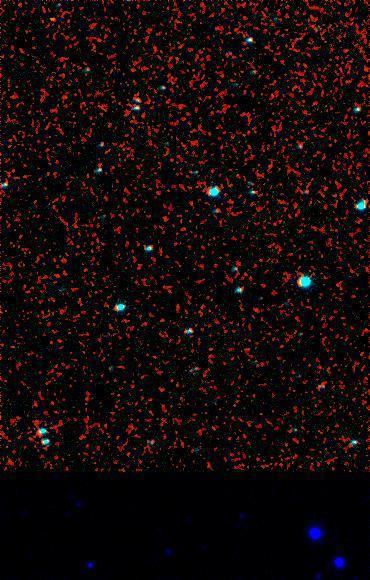star: (35, 4, 65, 34)
